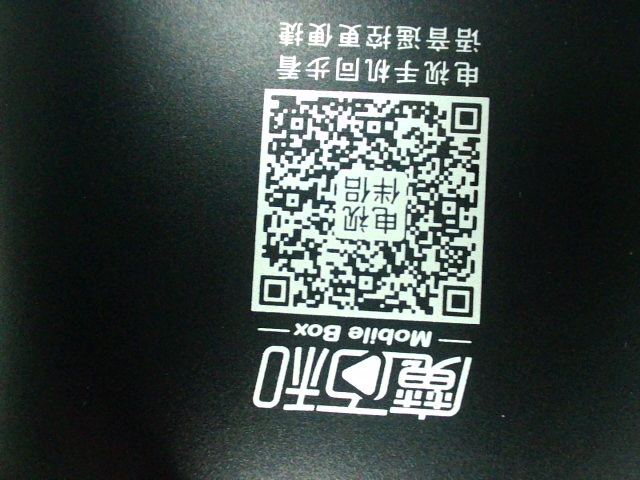AZ_MobileBox: (248, 16, 492, 422)
